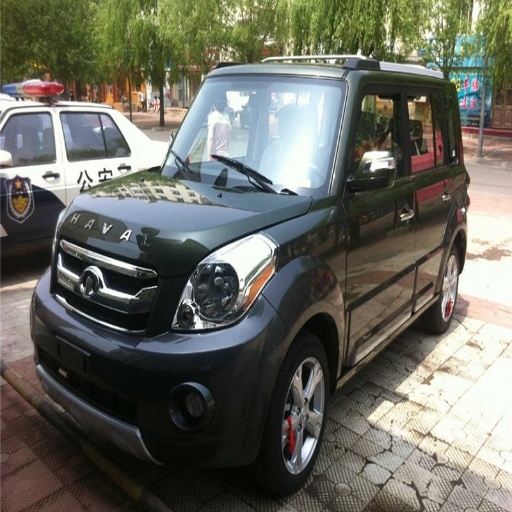back_glass: (3, 110, 54, 158)
front_bumper: (33, 232, 289, 470)
front_glass: (165, 75, 347, 193)
front_left_door: (342, 116, 415, 357)
